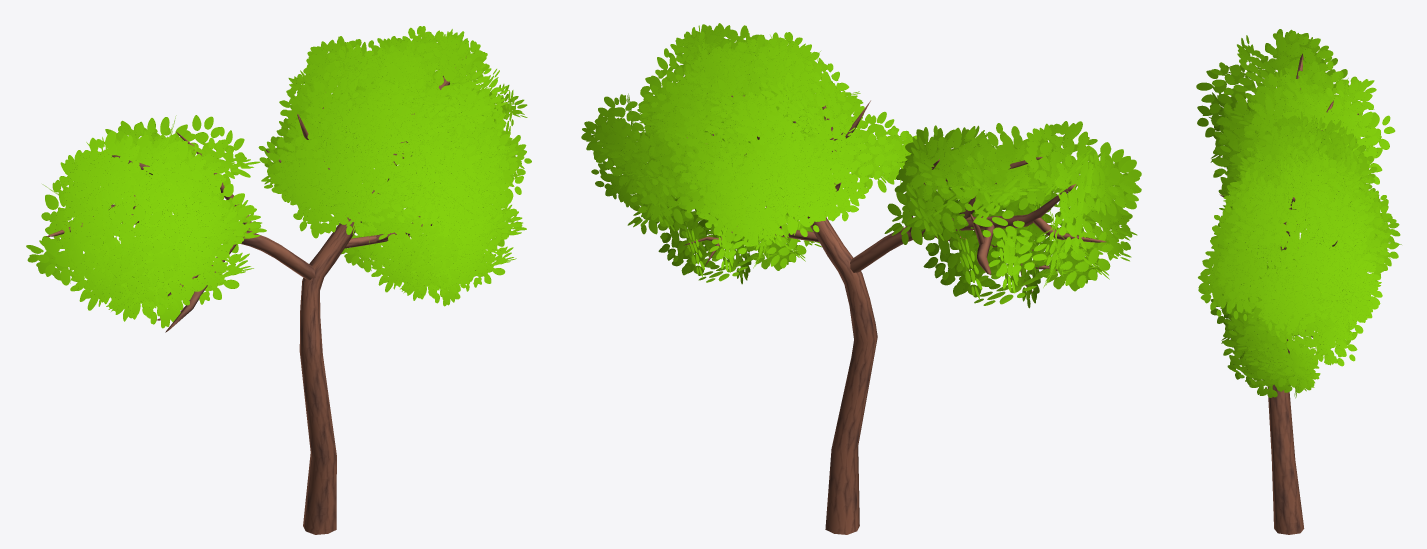
Rendered from tree-4.glb.
3 views of the same model, side by side, from view 1: azimuth 30°, elevation 25°; view 2: azimuth 150°, elevation 25°; view 3: azimuth 270°, elevation 25° (orthographic). The views are drawn at different scales.
Parts seen in each view (by area): view 1: NormalTree_4; view 2: NormalTree_4; view 3: NormalTree_4.
Boxes of the visible parts, bbox=[...] form: NormalTree_4: bbox=[26, 26, 531, 534]; NormalTree_4: bbox=[581, 23, 1141, 534]; NormalTree_4: bbox=[1196, 29, 1401, 534].
Bounding box in the file's own units: 5.67 × 5.1 × 2.4.
2 materials, 2 textured.
